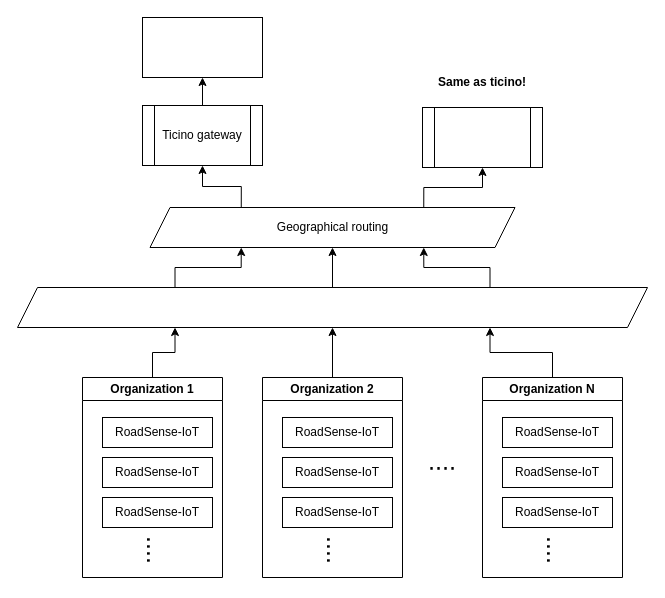
Some shapes in this 665 by 598 pixel diagram are drawn without their labels. The box of each missing label's shape, as (x1, y1, x2, y2) in pixels:
Apache Kafka #1: (142, 16, 262, 78)
INTERNET: (16, 286, 648, 328)
Other gateway: (422, 106, 542, 168)
